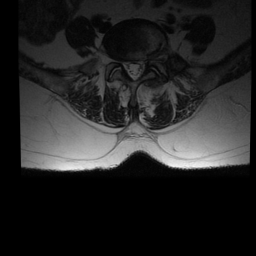CCS_normal: (131, 52, 138, 86)
LFS_severe_stenosis: (145, 49, 152, 72)
LLS_normal: (138, 52, 145, 80)
RFS_severe_stenosis: (115, 49, 123, 72)
RLS_normal: (123, 53, 131, 80)
